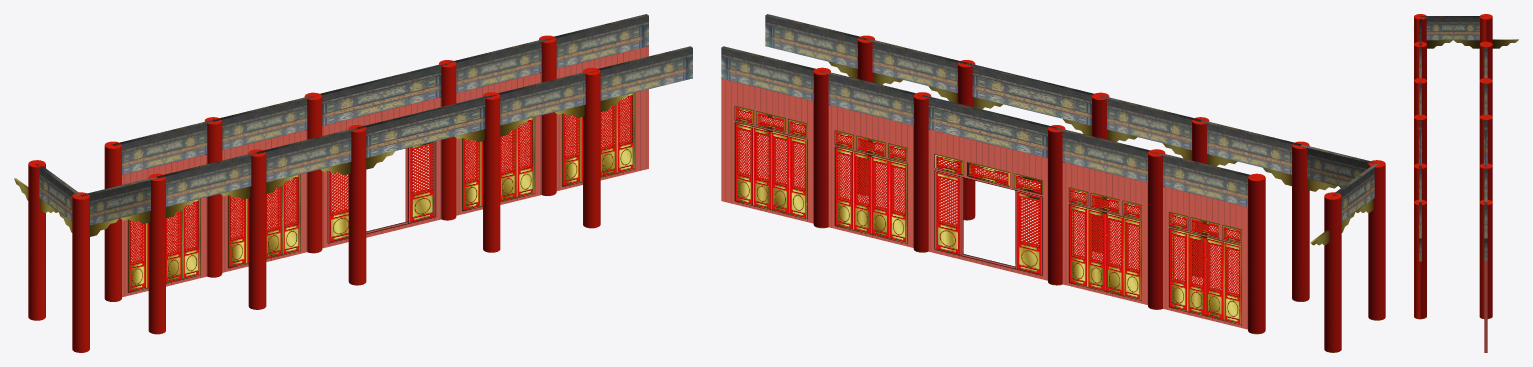
File: cornerwallwalldoorwallwall.dae
3 renders of one model, left to right at view 1: azimuth 30°, elevation 25°; view 2: azimuth 150°, elevation 25°; view 3: azimuth 270°, elevation 25°, orthographic. The views are drawn at different scales.
Visible parts, largest first — view 1: MainNode; view 2: MainNode; view 3: MainNode.
Part boxes in pixels (<box>): MainNode: <box>14,14,692,352</box>; MainNode: <box>721,14,1385,352</box>; MainNode: <box>1414,14,1518,352</box>.
Bounding box in the file's own units: 20.27 × 4.8 × 4.
Materials: 1 (1 with a texture image).
